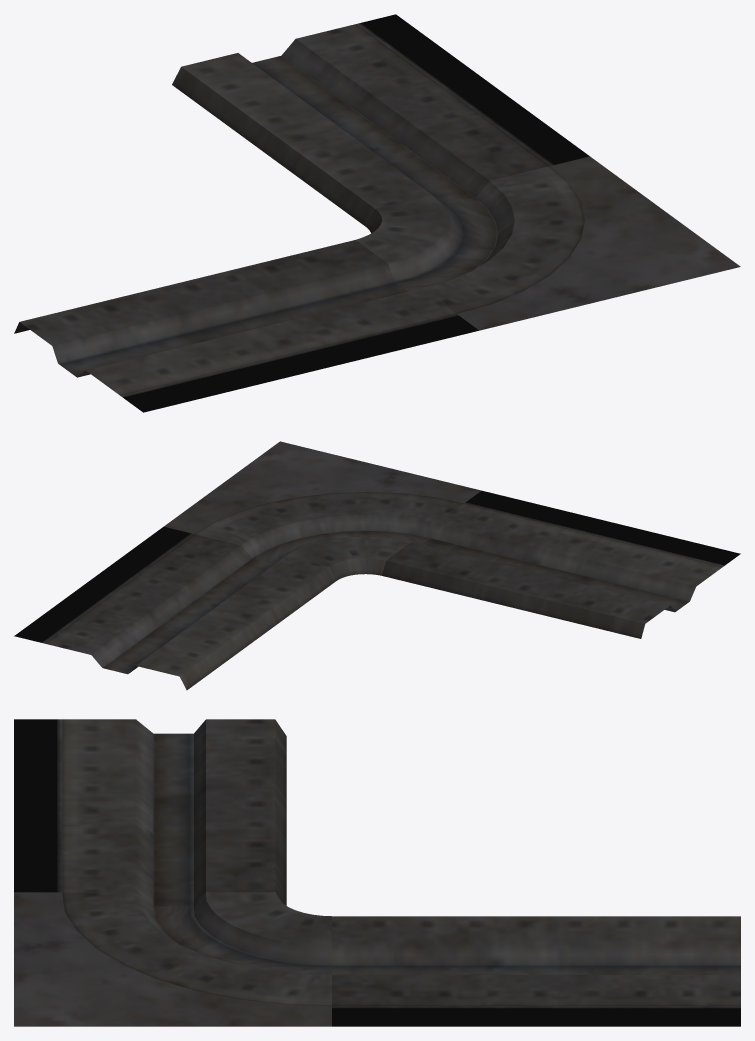
File: lab_floor_welder_concave_short_noyellow.dae
The picture shows the model from 3 angles, top to bottom: view 1: azimuth 30°, elevation 25°; view 2: azimuth 150°, elevation 25°; view 3: azimuth 270°, elevation 25°; orthographic projection. The views are drawn at different scales.
Visible parts, largest first — view 1: floor_welder_concave_short_noyellow; view 2: floor_welder_concave_short_noyellow; view 3: floor_welder_concave_short_noyellow.
Boxes of the visible parts, x1,y1,x2,y2 form: floor_welder_concave_short_noyellow: [14, 14, 740, 412]; floor_welder_concave_short_noyellow: [14, 441, 740, 690]; floor_welder_concave_short_noyellow: [14, 719, 740, 1026].
Size of the model in its own units: 1 by 0.0254 by 1.
